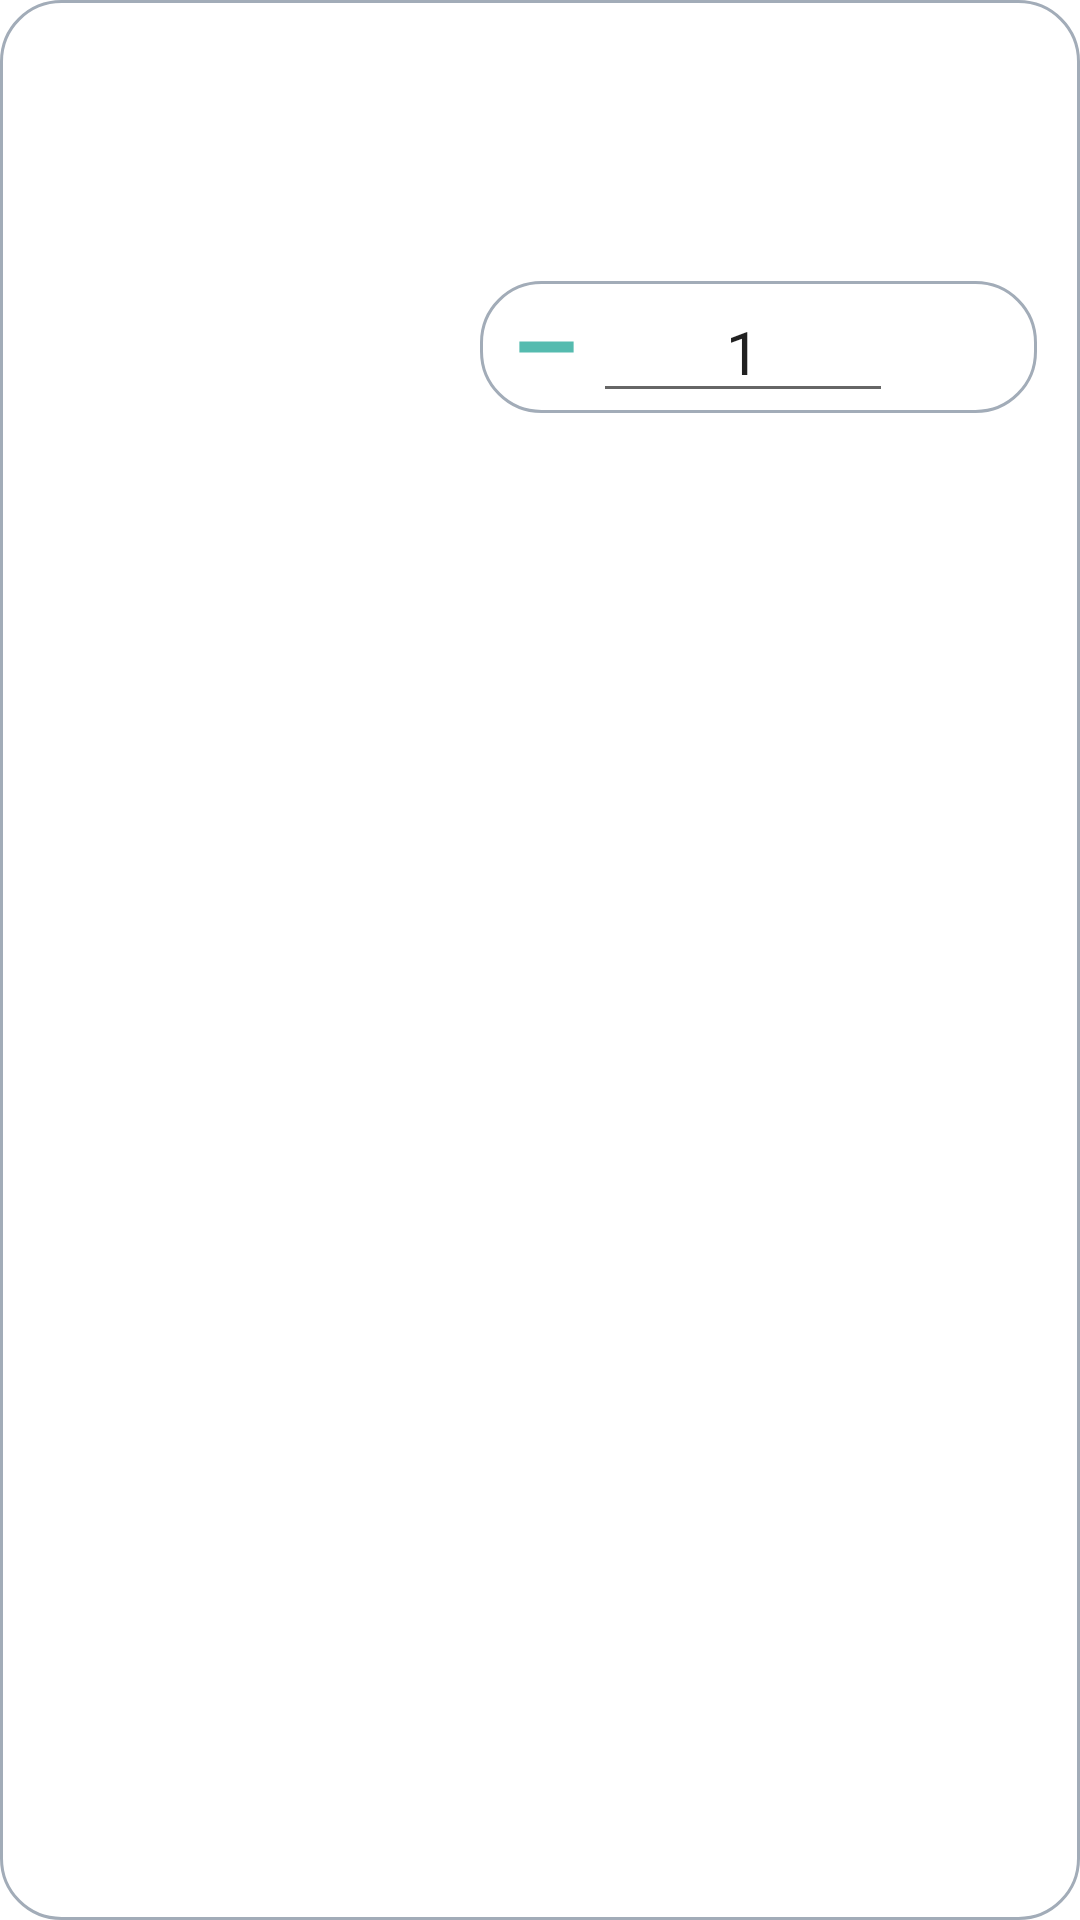

Named icons in this screenshot (1080*1920) and their centers, point (x, y):
remove: point (546, 347)
